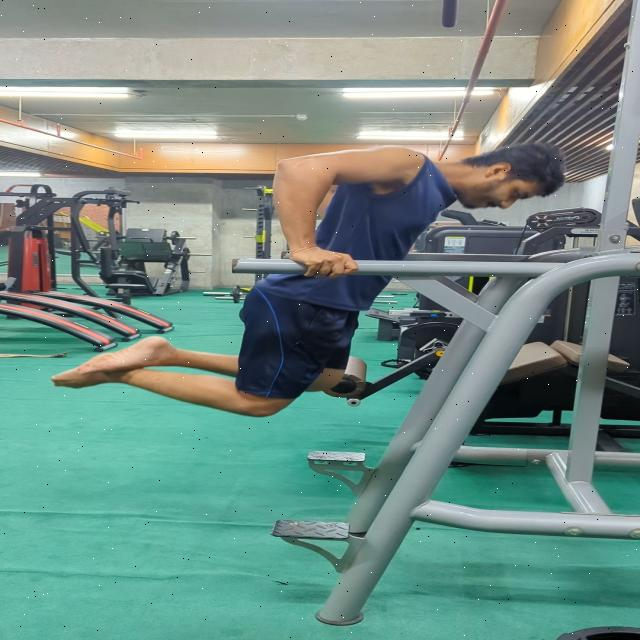Normal_Dips: (27, 125, 574, 425)
